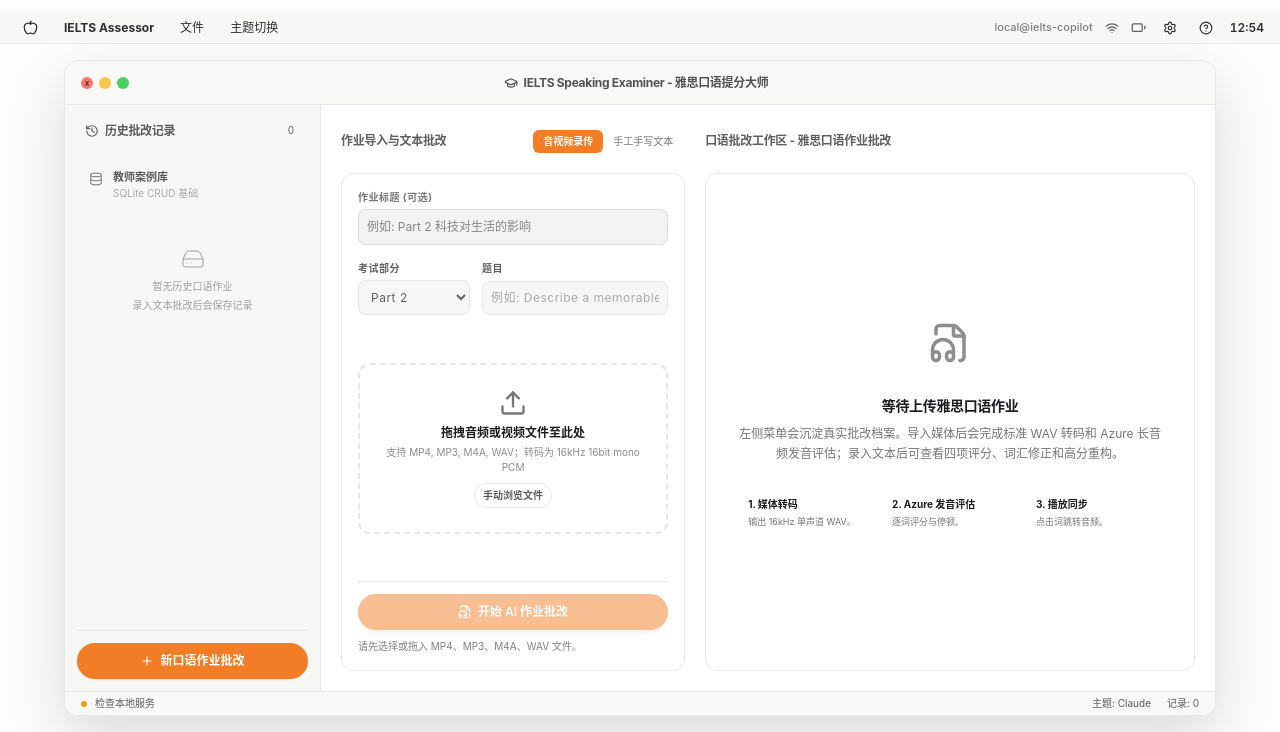
Test: App workspace › deletes an unarchived WAV and keeps the selected file when media history persistence fails
Click the button "手动浏览文件". click: (513, 495)
box: [474,482,552,508]
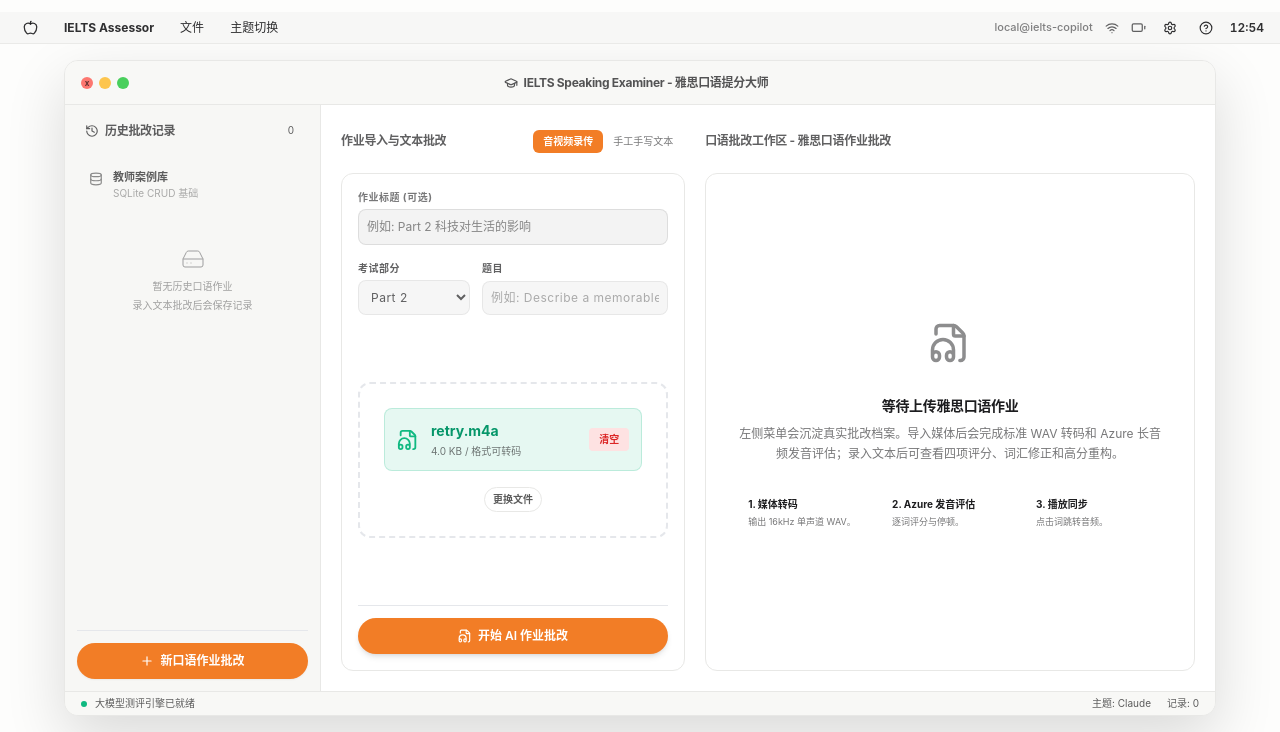
Check: the text "retry.m4a" is shown, box [431,422,499,439]
Click the button "开始 AI 作业批改". click: (513, 636)
box: [358,618,668,654]
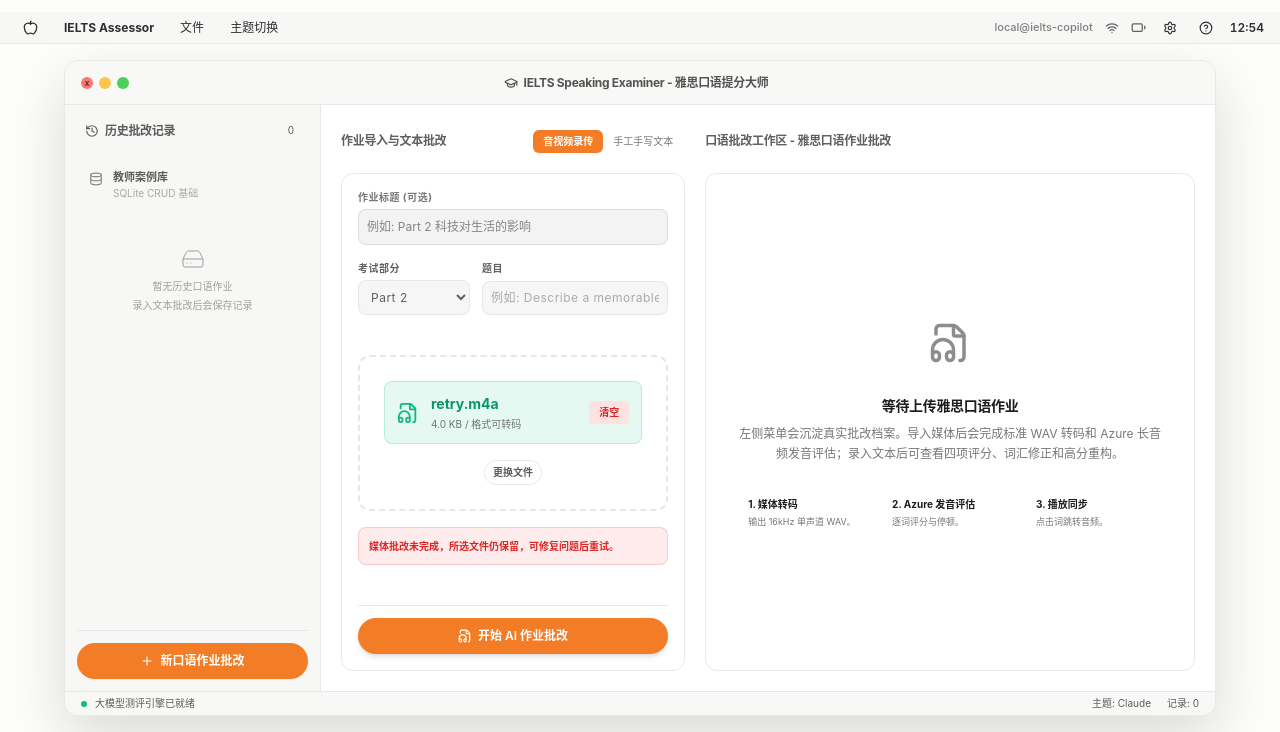
Check: the text "retry.m4a" is shown, box [431,395,499,412]
Check: the text "媒体批改未完成，所选文件仍保留，可修复问题后重试。" is shown, box [358,527,668,565]
